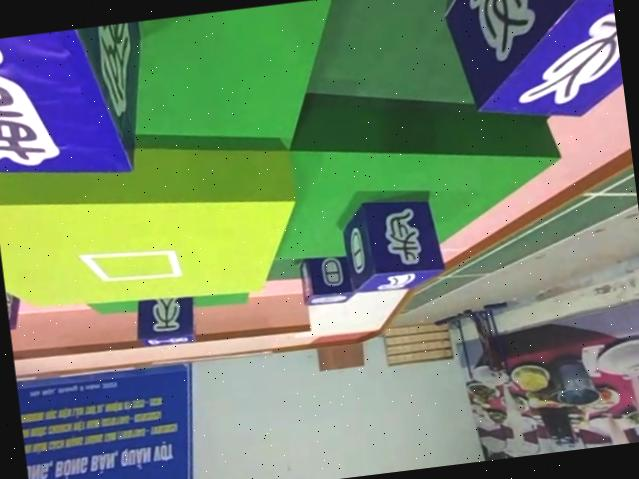R2 Fake Blue: (0, 21, 152, 191), (443, 0, 625, 131), (335, 192, 444, 295), (129, 292, 197, 349), (298, 249, 360, 304), (2, 269, 22, 329)
